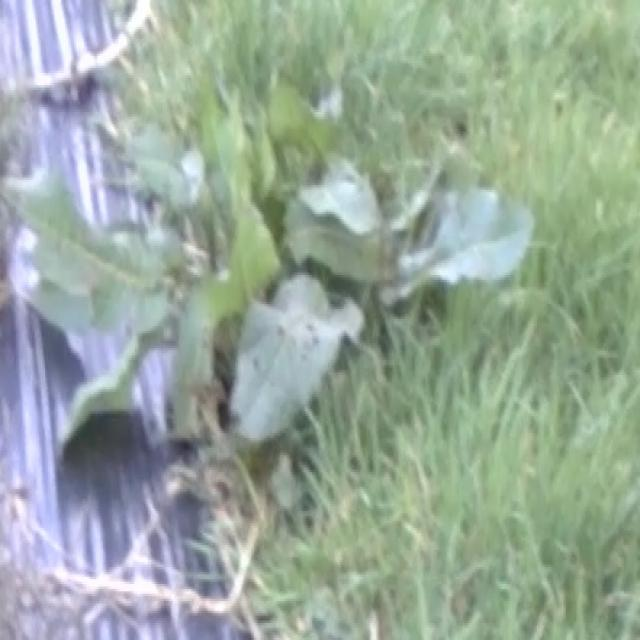organic waste: (0, 37, 535, 417)
